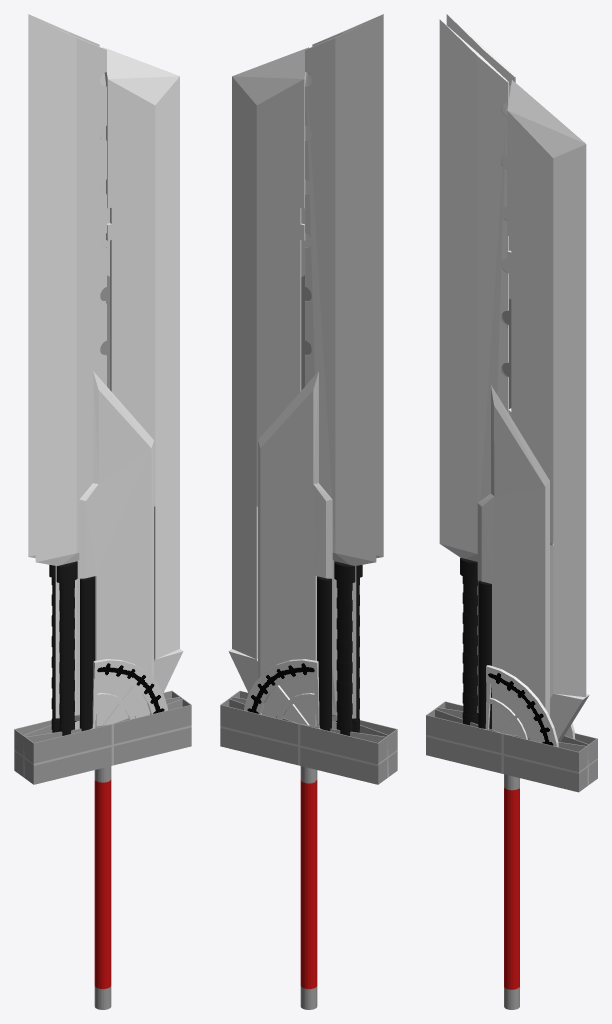
The model's file is unionsword.obj.
3 views of the same model, side by side, from view 1: azimuth 30°, elevation 25°; view 2: azimuth 150°, elevation 25°; view 3: azimuth 330°, elevation 25° (orthographic). The views are drawn at different scales.
Visible parts, largest first — view 1: ButterflyEdge01_BE01, Organix_Org, RuneBlade01_RE01, boxO, ButterflyEdge02_BE02, grip_Cylinder, BGrip01_BG01, RuneGuard01_RH01, RGrip01_RG01, edge01, BGrip02_BG02, boxC (+1 smaller); view 2: ButterflyEdge02_BE02, Organix_Org, RuneBlade02_RE02, boxO, ButterflyEdge01_BE01, grip_Cylinder, BGrip02_BG02, RuneGuard02_RH02, RGrip02_RG02, edge01, edge02, BGrip01_BG01 (+1 smaller); view 3: Organix_Org, ButterflyEdge01_BE01, RuneBlade01_RE01, boxO, grip_Cylinder, BGrip01_BG01, RuneGuard01_RH01, RGrip01_RG01, edge01, ButterflyEdge02_BE02, edge02, boxC.
Boxes of the visible parts, <box> form: ButterflyEdge01_BE01: <box>35,19,106,565</box>; Organix_Org: <box>103,47,183,692</box>; RuneBlade01_RE01: <box>79,371,153,726</box>; boxO: <box>14,690,191,784</box>; ButterflyEdge02_BE02: <box>28,14,99,558</box>; grip_Cylinder: <box>94,766,111,1009</box>; BGrip01_BG01: <box>56,561,77,735</box>; RuneGuard01_RH01: <box>90,659,167,729</box>; RGrip01_RG01: <box>80,576,94,731</box>; edge01: <box>55,74,104,720</box>; BGrip02_BG02: <box>49,565,59,732</box>; boxC: <box>23,697,182,765</box>; ButterflyEdge02_BE02: <box>305,19,376,565</box>; Organix_Org: <box>228,47,308,692</box>; RuneBlade02_RE02: <box>258,371,332,726</box>; boxO: <box>220,690,397,784</box>; ButterflyEdge01_BE01: <box>312,14,383,558</box>; grip_Cylinder: <box>300,766,317,1009</box>; BGrip02_BG02: <box>334,561,355,735</box>; RuneGuard02_RH02: <box>244,659,321,729</box>; RGrip02_RG02: <box>317,576,331,731</box>; edge01: <box>307,74,356,720</box>; edge02: <box>301,73,307,390</box>; BGrip01_BG01: <box>352,565,362,732</box>; Organix_Org: <box>507,80,589,741</box>; ButterflyEdge01_BE01: <box>439,19,508,561</box>; RuneBlade01_RE01: <box>477,385,549,742</box>; boxO: <box>426,701,597,792</box>; grip_Cylinder: <box>504,774,519,1009</box>; BGrip01_BG01: <box>460,557,477,725</box>; RuneGuard01_RH01: <box>483,665,558,746</box>; RGrip01_RG01: <box>478,580,491,729</box>; edge01: <box>477,85,510,712</box>; ButterflyEdge02_BE02: <box>446,14,515,85</box>; edge02: <box>508,236,553,698</box>; boxC: <box>435,707,589,768</box>.
Size of the model in its own units: 4 by 24.36 by 0.86.
